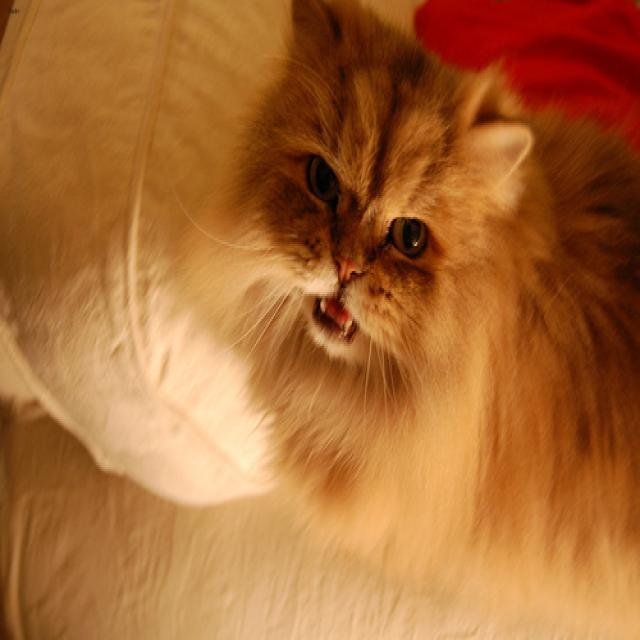Persian: (255, 0, 536, 364)
